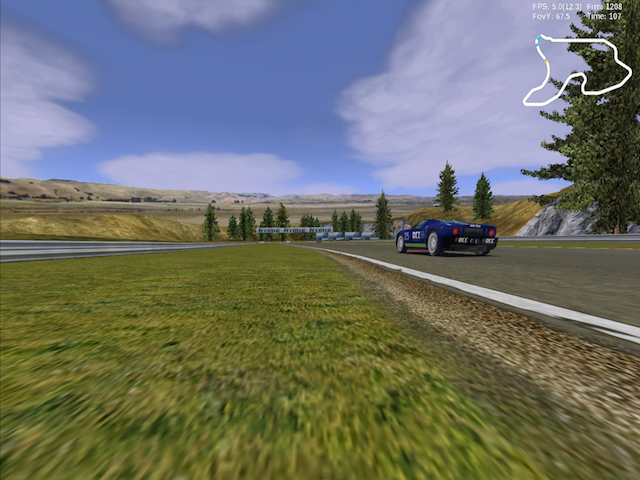FMC_GT4: (396, 218, 498, 257)
